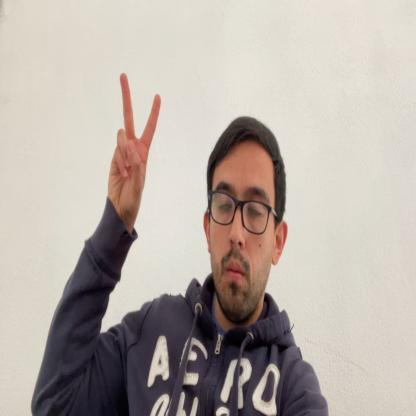V: (106, 70, 161, 220)
